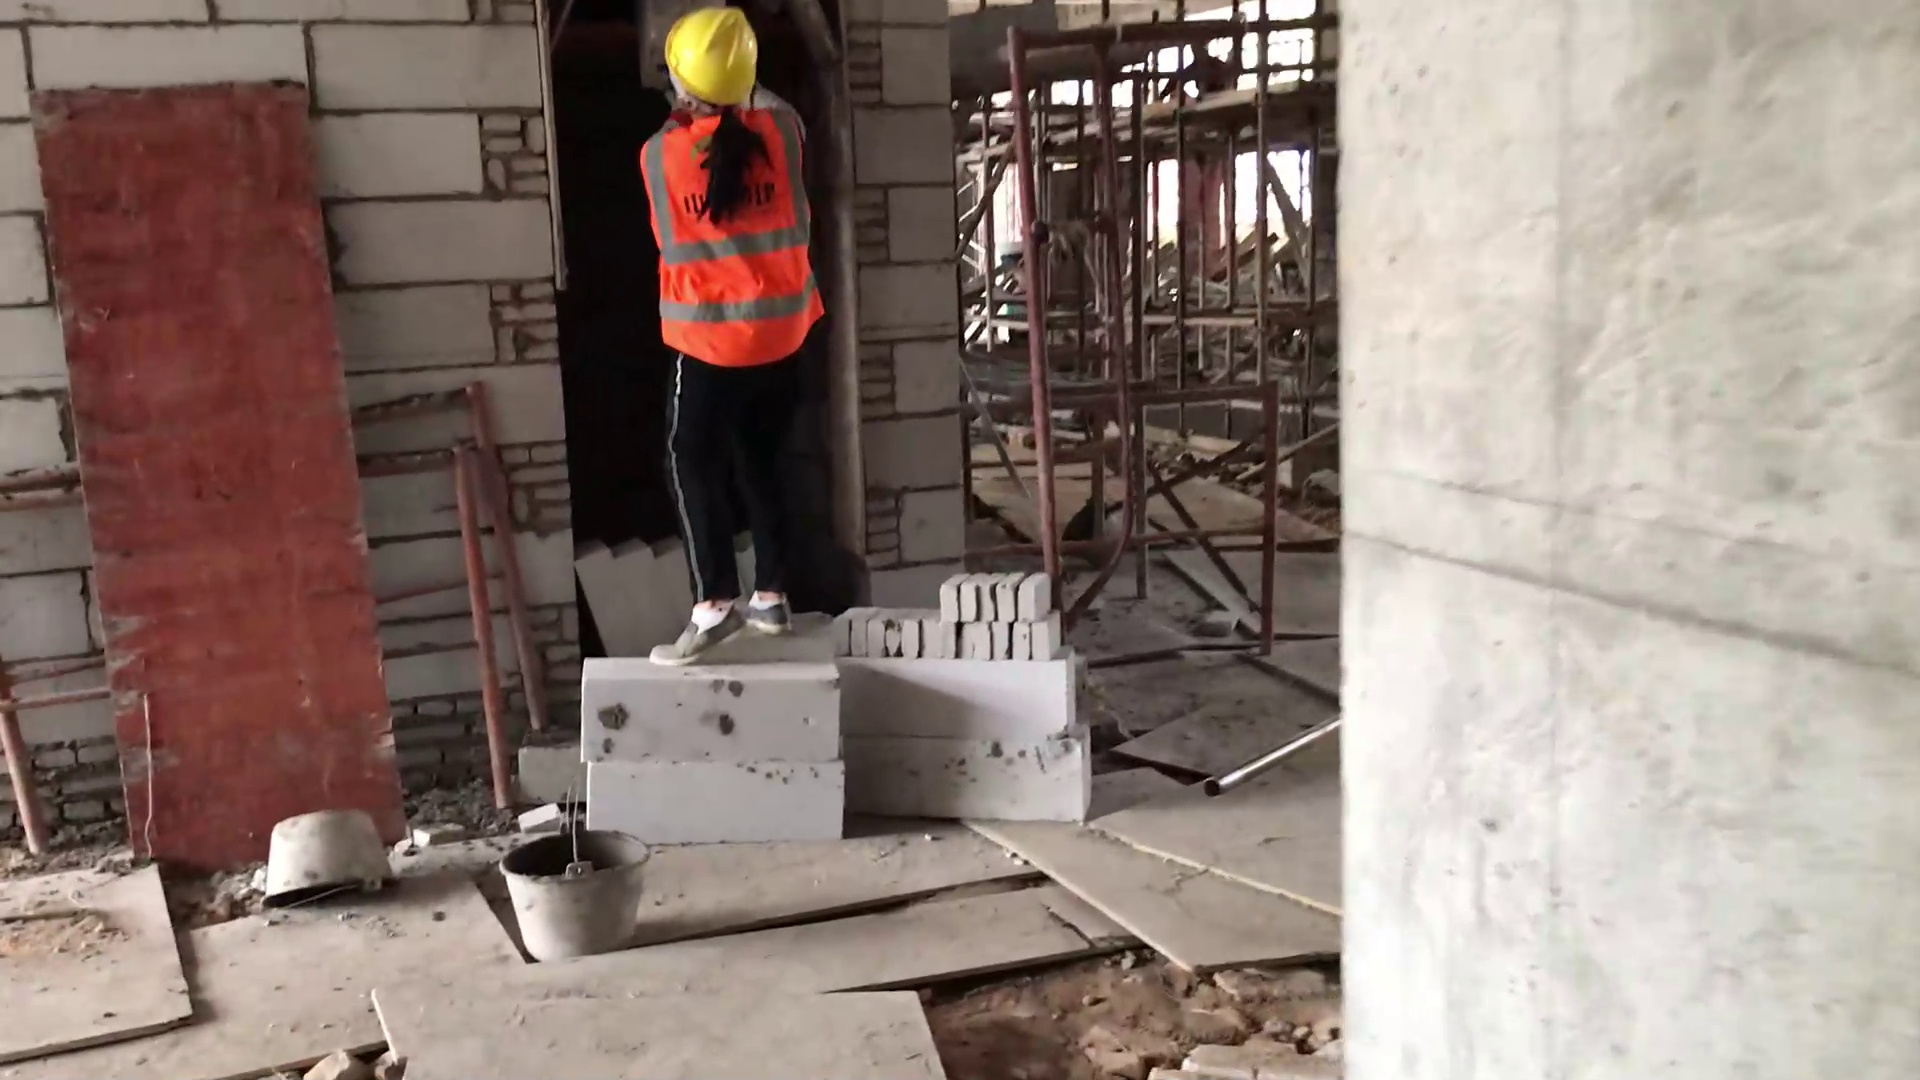helmet: (654, 1, 781, 128)
person: (620, 1, 850, 681)
vest: (634, 109, 829, 376)
